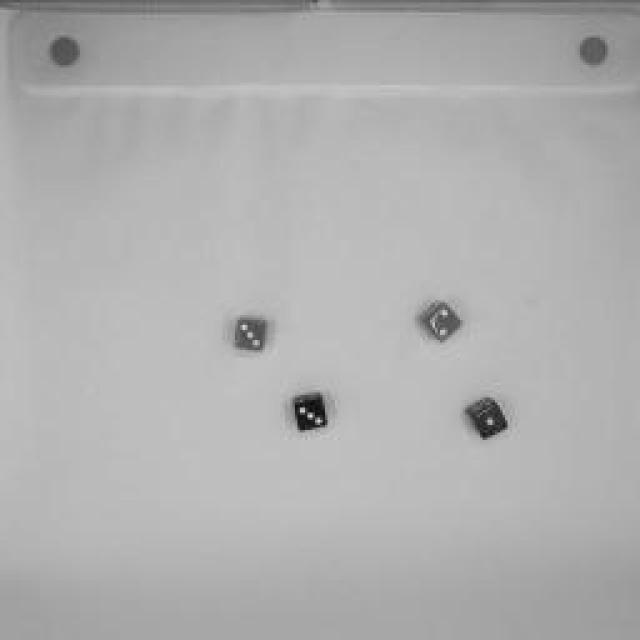dice_1: (465, 391, 513, 444)
dice_2: (416, 296, 472, 346)
dice_3: (229, 310, 271, 355), (291, 390, 329, 435)
